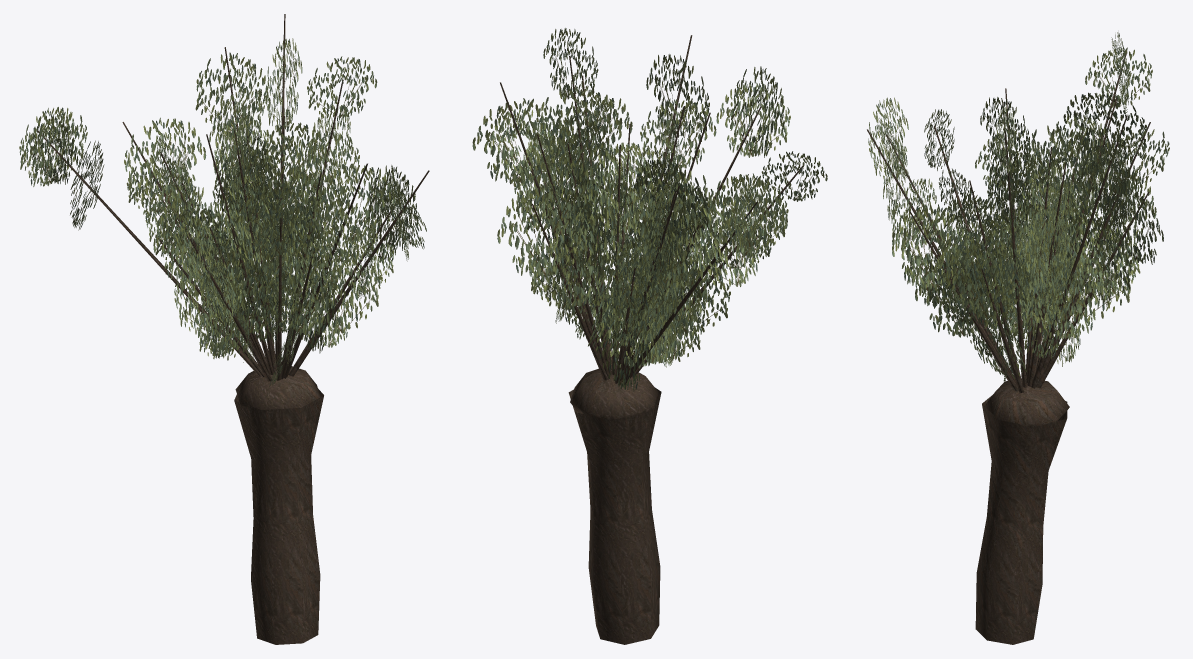
Rendered from tpl_pollards_meadow_pollard_hi.glb.
The picture shows the model from 3 angles, left to right: view 1: azimuth 30°, elevation 25°; view 2: azimuth 150°, elevation 25°; view 3: azimuth 270°, elevation 25°; orthographic projection. The views are drawn at different scales.
Parts seen in each view (by area): view 1: tpl_pollards_meadow_pollard_hi; view 2: tpl_pollards_meadow_pollard_hi; view 3: tpl_pollards_meadow_pollard_hi.
Part boxes in pixels (box(x1,y1,x2,y2)): tpl_pollards_meadow_pollard_hi: box(19, 14, 429, 644); tpl_pollards_meadow_pollard_hi: box(472, 28, 827, 644); tpl_pollards_meadow_pollard_hi: box(867, 32, 1169, 644).
Bounding box in the file's own units: 3.63 × 6.16 × 3.21.
Materials: 2 (2 with a texture image).
